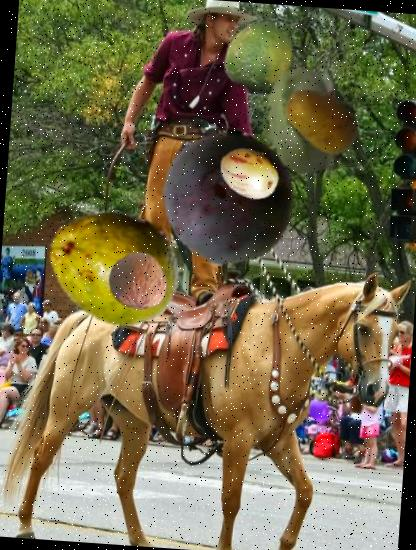Guava: (44, 193, 187, 336)
Kohlrabi: (247, 59, 368, 180)
Limes: (221, 18, 299, 96)
Pepino: (217, 142, 281, 205)
Plum: (155, 124, 301, 270)
Potato: (279, 76, 367, 164)
Walnut: (106, 249, 170, 313)
